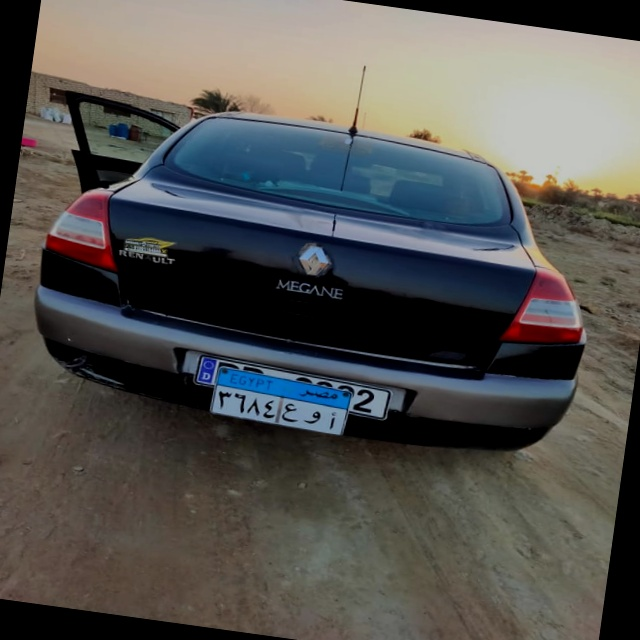License Plate: (207, 364, 355, 439)
